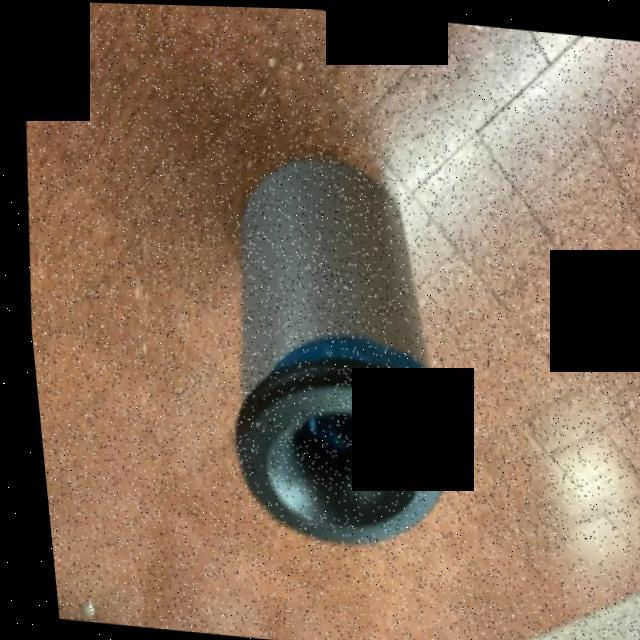bin: (180, 131, 481, 575)
